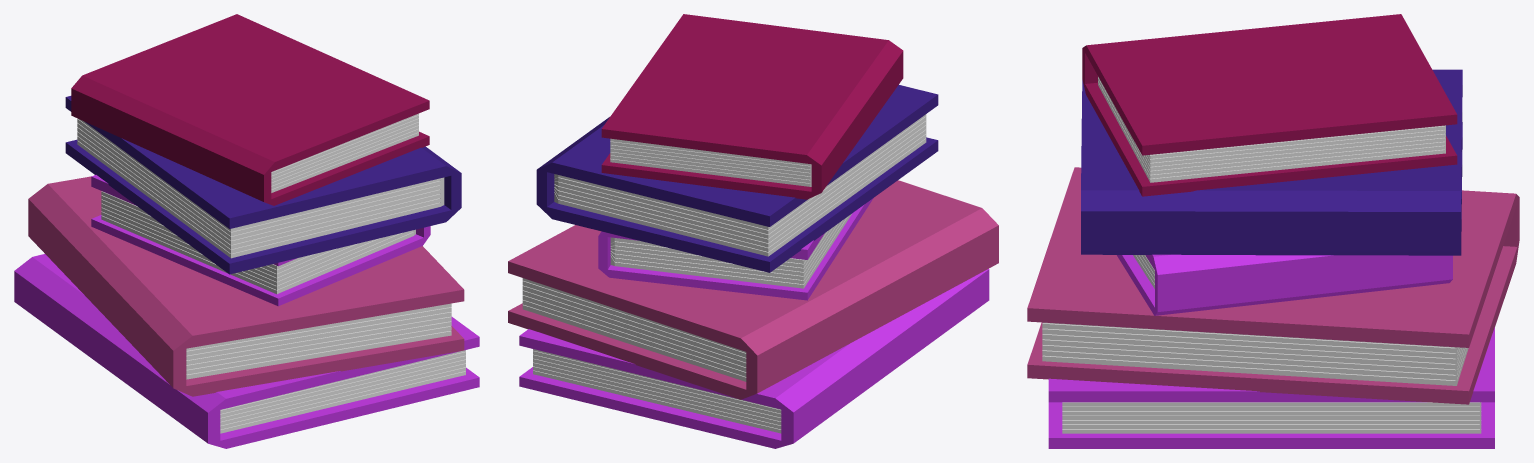
File: StapelRosa.glb
The picture shows the model from 3 angles, left to right: view 1: azimuth 30°, elevation 25°; view 2: azimuth 150°, elevation 25°; view 3: azimuth 270°, elevation 25°; orthographic projection. The views are drawn at different scales.
Visible parts, largest first — view 1: Plane.004; view 2: Plane.004; view 3: Plane.004.
Part boxes in pixels (box(x1,y1,x2,y2)): Plane.004: box(14, 14, 479, 448); Plane.004: box(508, 14, 998, 448); Plane.004: box(1027, 14, 1519, 448).
Size of the model in its own units: 2.77 by 2.17 by 3.25.
